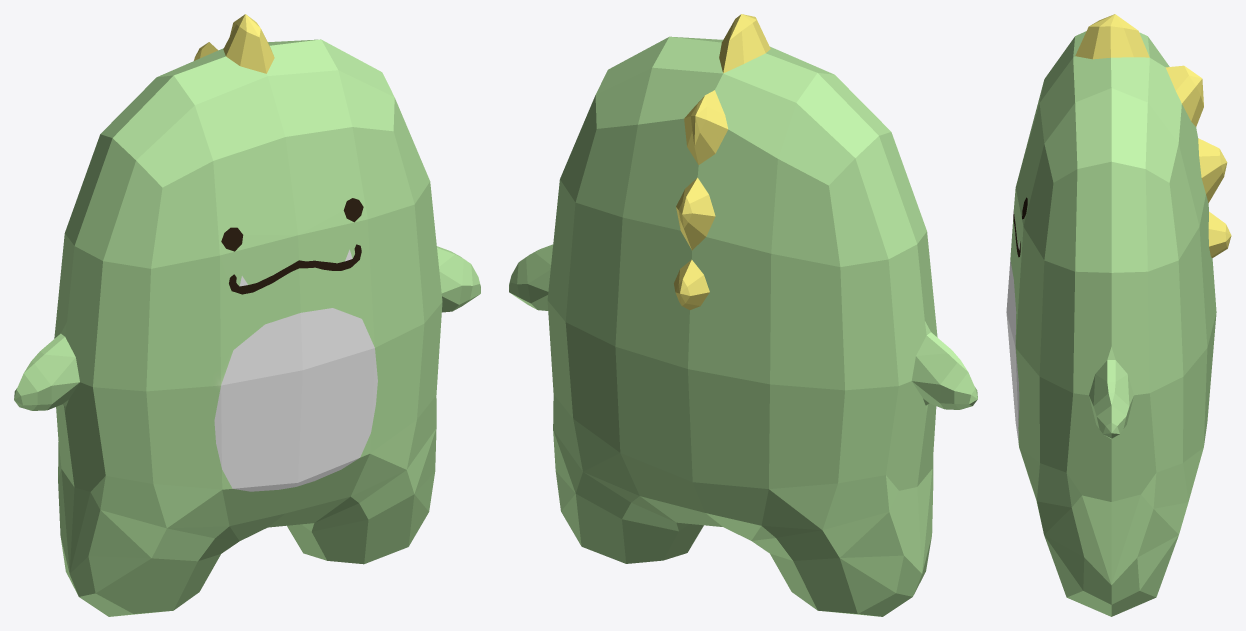
Rendered from 기본꽁룡.fbx.
3 renders of one model, left to right at view 1: azimuth 30°, elevation 25°; view 2: azimuth 150°, elevation 25°; view 3: azimuth 270°, elevation 25°, orthographic. The views are drawn at different scales.
Visible parts, largest first — view 1: Cube; view 2: Cube; view 3: Cube.
Boxes of the visible parts, x1,y1,x2,y2 form: Cube: (14,14,480,616); Cube: (509,14,977,616); Cube: (1006,14,1231,616).
Bounding box in the file's own units: 338 × 393 × 149.
Materials: 1 (1 with a texture image).
